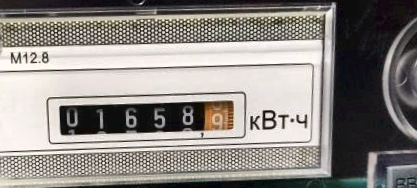0: (65, 105, 79, 127)
1: (95, 107, 106, 129)
5: (152, 105, 167, 128)
6: (123, 105, 138, 128)
8: (180, 102, 195, 125)
9: (208, 110, 223, 132)
screen: (40, 82, 255, 151)
